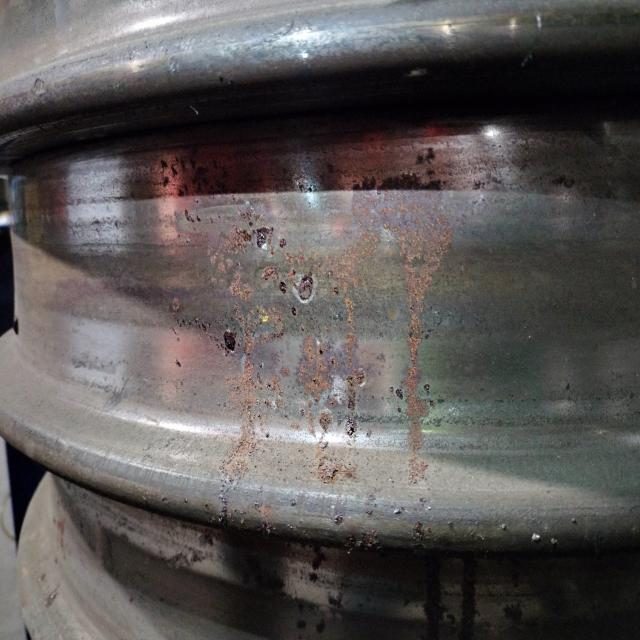Blue hole: (29, 80, 55, 101)
